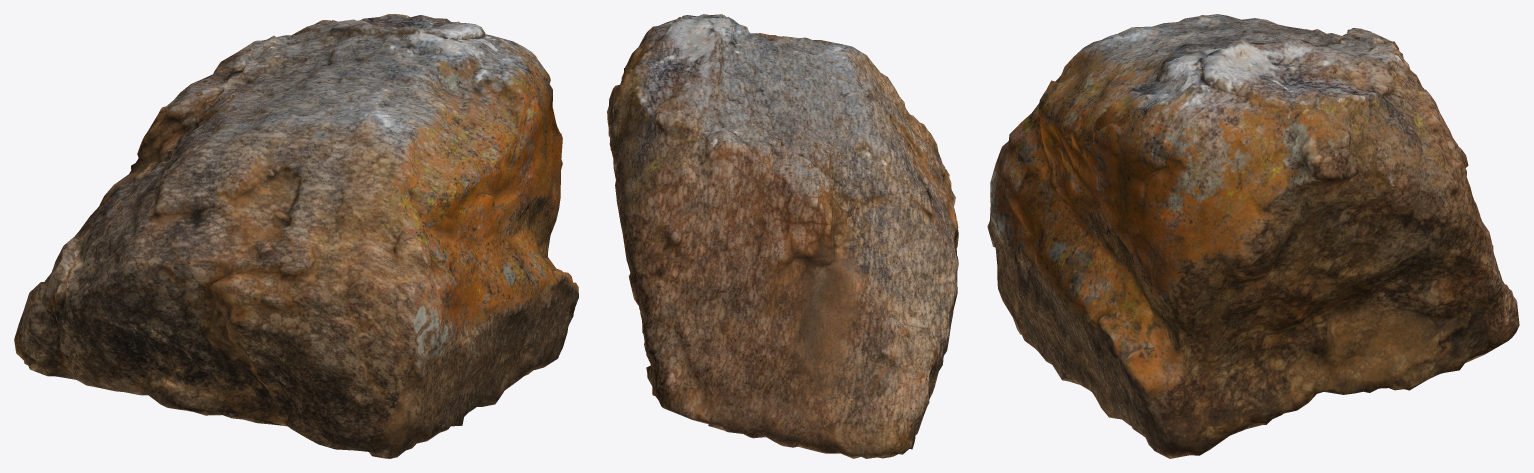
File: desert_boulder.glb
3 views of the same model, side by side, from view 1: azimuth 30°, elevation 25°; view 2: azimuth 150°, elevation 25°; view 3: azimuth 270°, elevation 25° (orthographic). The views are drawn at different scales.
Parts seen in each view (by area): view 1: boulder_04; view 2: boulder_04; view 3: boulder_04.
Part boxes in pixels (x1,y1,x2,y2): boulder_04: (14,14,578,458); boulder_04: (607,14,958,458); boulder_04: (987,14,1519,458).
Size of the model in its own units: 2.52 by 1.9 by 2.49.
1 material, 1 textured.
